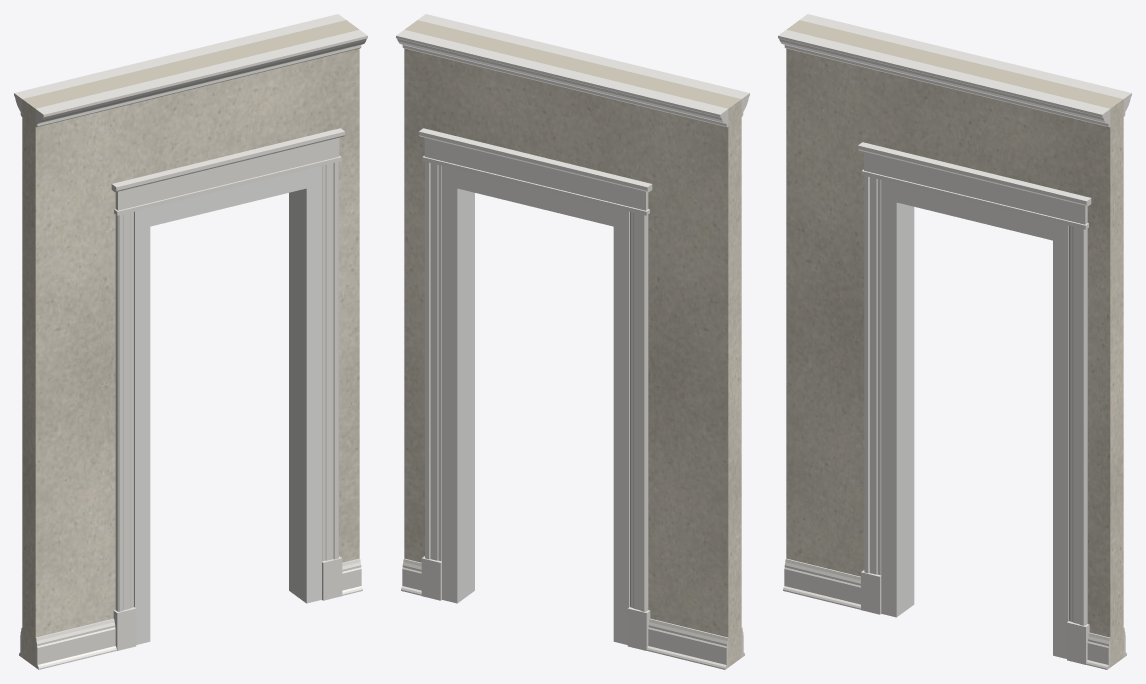
Rendered from interior_wall_end_doorway.glb.
3 renders of one model, left to right at view 1: azimuth 30°, elevation 25°; view 2: azimuth 150°, elevation 25°; view 3: azimuth 330°, elevation 25°, orthographic.
Visible parts, largest first — view 1: interior_wall_end_doorway_plaster, molduras, interior_wall_end_doorway_frame; view 2: interior_wall_end_doorway_plaster, molduras, interior_wall_end_doorway_frame; view 3: interior_wall_end_doorway_plaster, molduras, interior_wall_end_doorway_frame.
Part boxes in pixels (x1,y1,x2,y2): interior_wall_end_doorway_plaster: (22,20,359,667); molduras: (14,14,367,669); interior_wall_end_doorway_frame: (134,166,321,644); interior_wall_end_doorway_plaster: (404,20,741,667); molduras: (396,14,749,669); interior_wall_end_doorway_frame: (442,166,629,644); interior_wall_end_doorway_plaster: (786,20,1123,667); molduras: (778,14,1131,669); interior_wall_end_doorway_frame: (881,180,1068,658).
Bounding box in the file's own units: 1.7 × 2.8 × 0.27.
3 materials, 1 textured.
